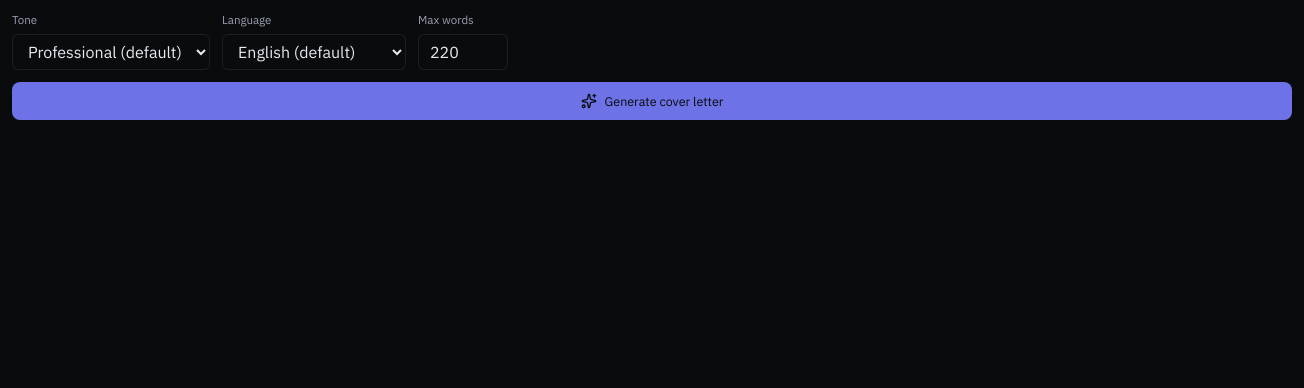
Test case: CoverLetterPanel › re-arms the confirmation gate when a new letter is generated
What coordinates should you click on to do the following:
click the button "Generate cover letter"
I would click on:
 (652, 101)
Its box is x1=12 y1=82 x2=1292 y2=120.
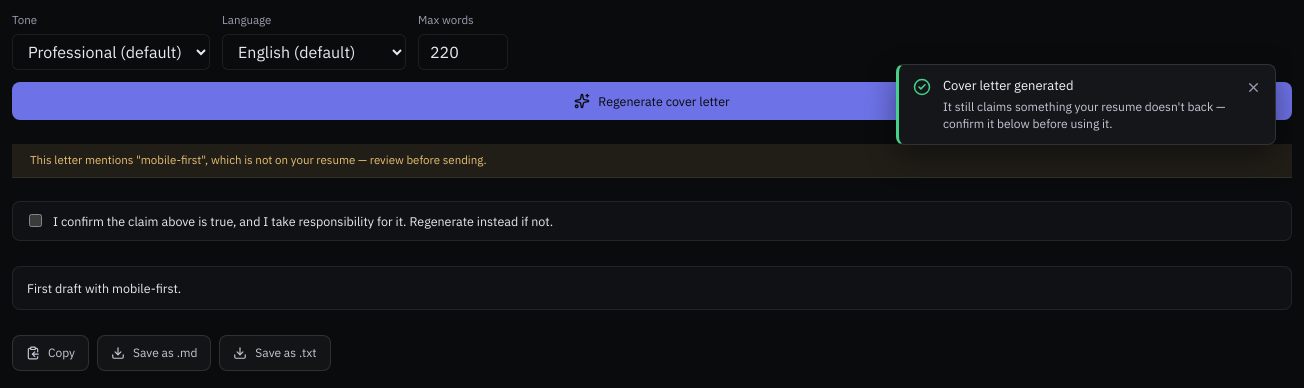
Expected: the text "First draft with mobile-first." is shown, x1=12 y1=266 x2=1292 y2=310
What coordinates should you click on to do the following:
click the checkbox labelled "confirm"
I would click on:
 (36, 220)
Its box is x1=29 y1=214 x2=42 y2=227.
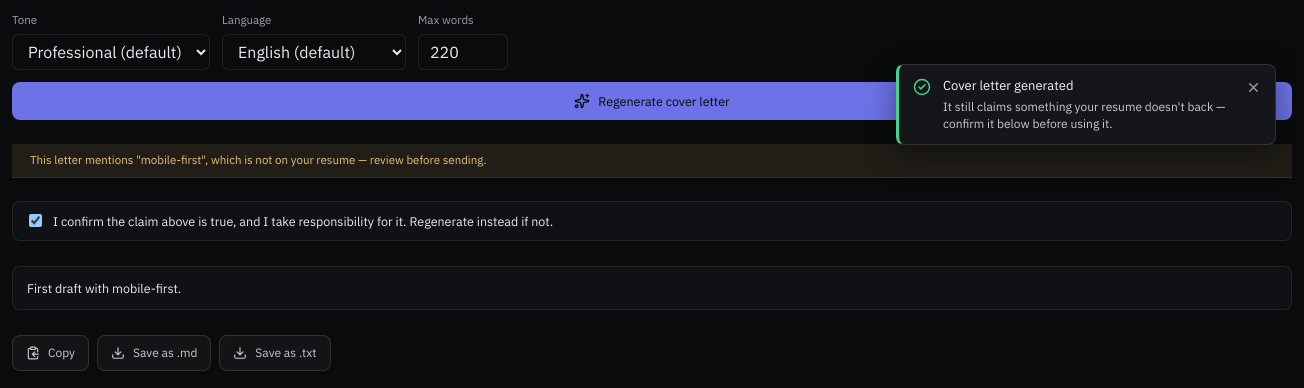
Expected: the button "Copy" is enabled, x1=12 y1=335 x2=89 y2=371
What coordinates should you click on to do the following:
click the button "Regenerate cover letter"
I would click on:
 (652, 101)
Its box is x1=12 y1=82 x2=1292 y2=120.
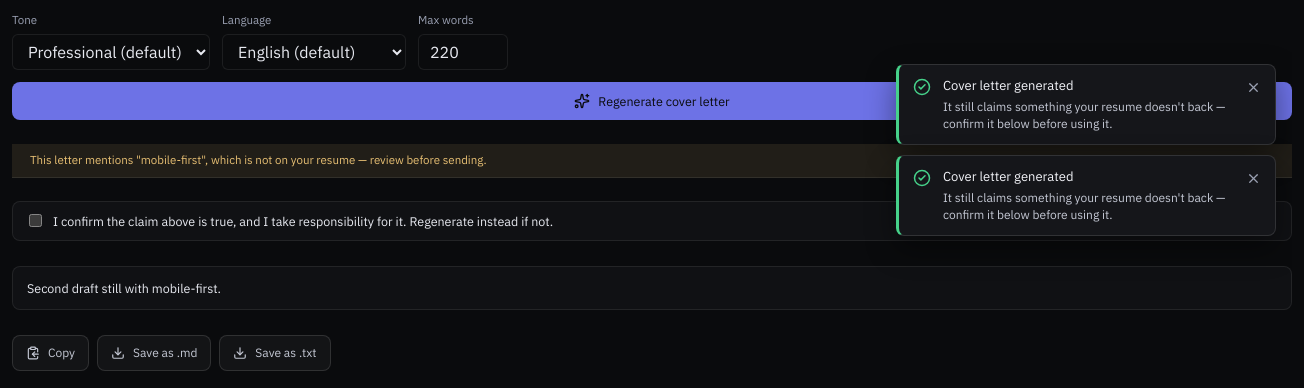
Expected: the button "Copy" is disabled, x1=12 y1=335 x2=89 y2=371
Expected: the checkbox labelled "confirm" is not checked, x1=29 y1=214 x2=42 y2=227
Expected: the text "Second draft still with mobile-first." is shown, x1=12 y1=266 x2=1292 y2=310
